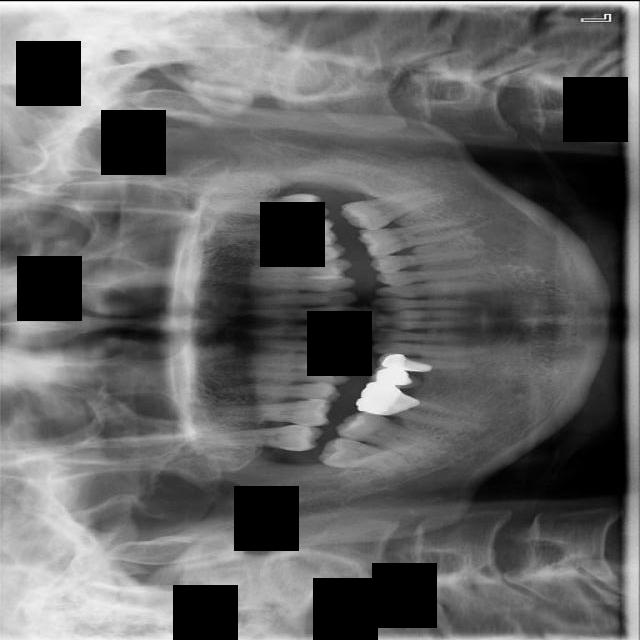52: (354, 343, 435, 429)
73: (579, 58, 585, 62)
BioHorizons Implant: (206, 186, 331, 222)
Blue Sky Bio Implant: (337, 183, 445, 236)
Caries: (189, 421, 325, 458)
Implant: (334, 403, 435, 457)
Keystone Dental Implant: (317, 433, 415, 477)
